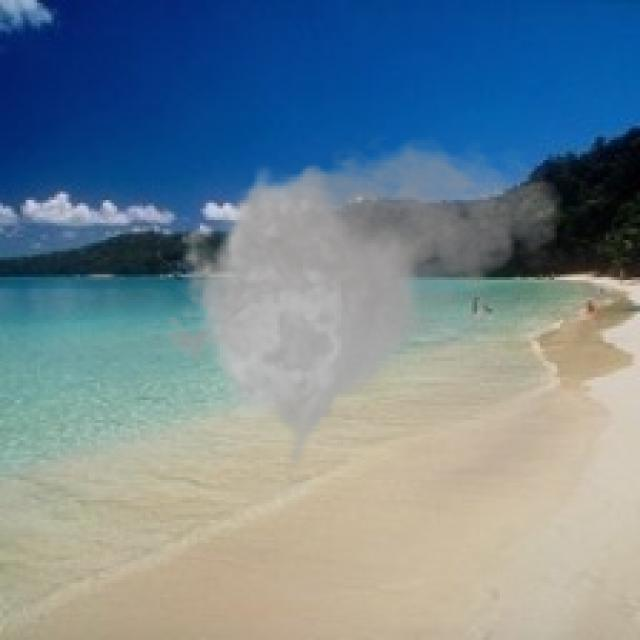Smoke: (152, 128, 568, 480)
